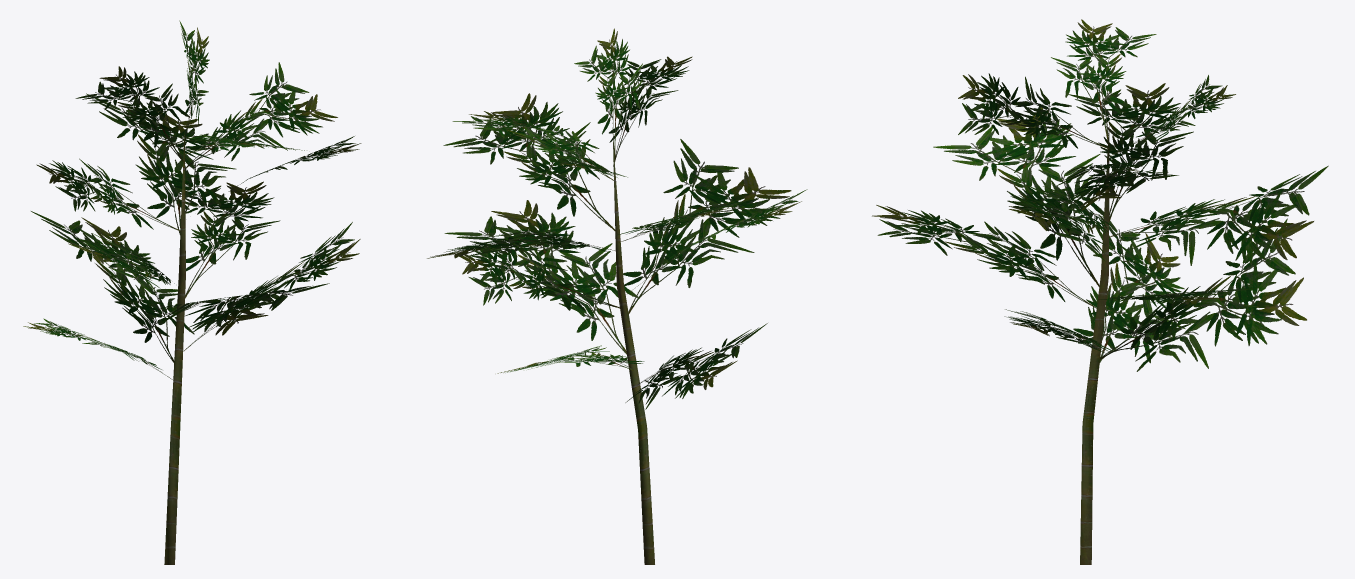
The model's file is obj__bamb2.obj.
The picture shows the model from 3 angles, left to right: view 1: azimuth 30°, elevation 25°; view 2: azimuth 150°, elevation 25°; view 3: azimuth 270°, elevation 25°; orthographic projection. The views are drawn at different scales.
Parts seen in each view (by area): view 1: bamb2.tga; view 2: bamb2.tga; view 3: bamb2.tga.
Part boxes in pixels (x1,y1,x2,y2): bamb2.tga: [23, 20, 361, 564]; bamb2.tga: [427, 28, 807, 564]; bamb2.tga: [872, 19, 1328, 564].
Bounding box in the file's own units: 119 × 175 × 133.
1 material, 1 textured.
